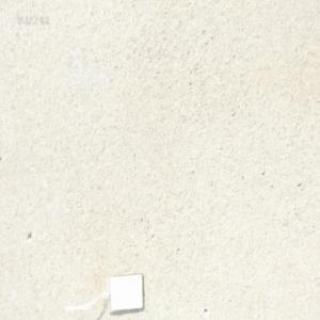LuggageTagtrack_idkeyframe: (64, 269, 144, 313)
